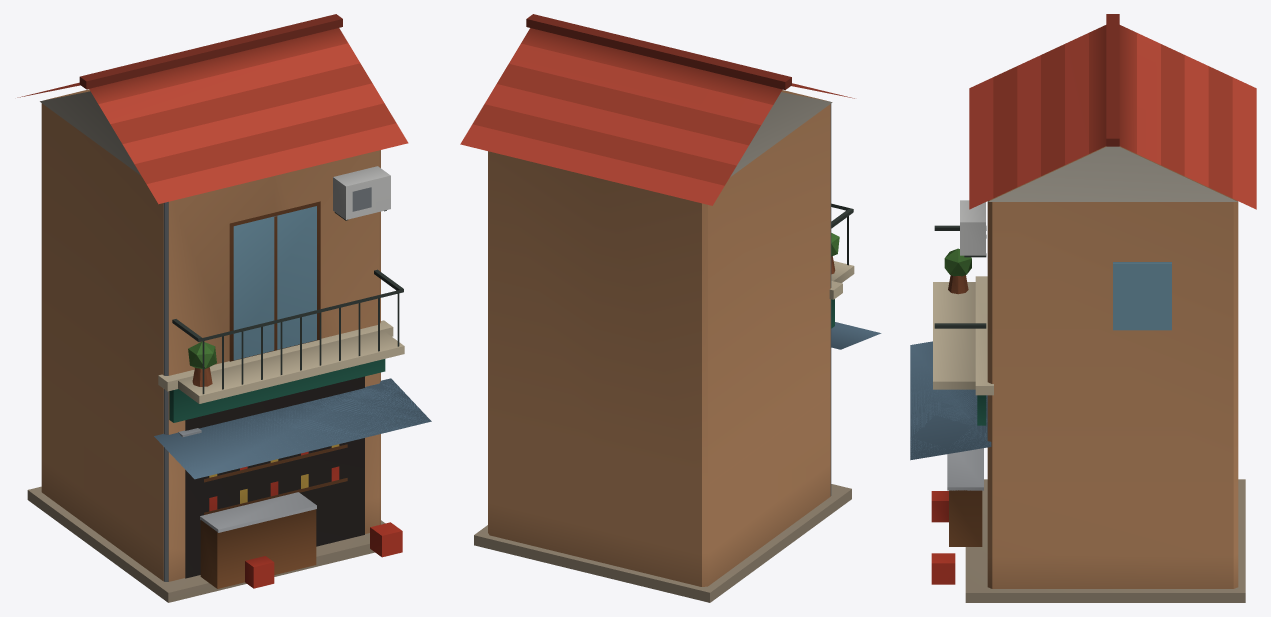
The model's file is nha-pho-c.glb.
3 renders of one model, left to right at view 1: azimuth 30°, elevation 25°; view 2: azimuth 150°, elevation 25°; view 3: azimuth 270°, elevation 25°, orthographic.
Visible parts, largest first — view 1: nha-pho-c; view 2: nha-pho-c; view 3: nha-pho-c.
Boxes of the visible parts, bbox=[...] form: nha-pho-c: bbox=[17, 14, 431, 602]; nha-pho-c: bbox=[460, 14, 881, 602]; nha-pho-c: bbox=[910, 14, 1256, 602].
Size of the model in its own units: 4 by 7.04 by 4.7.
